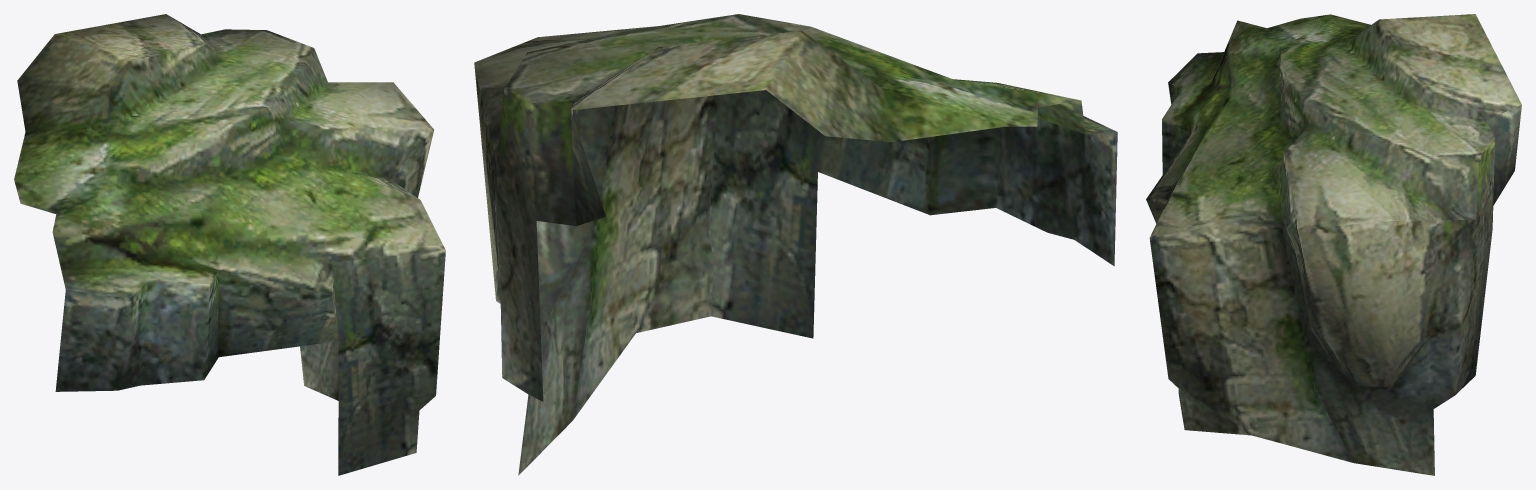
Rendered from S_Rock_Green047_1060_7.fbx.
3 views of the same model, side by side, from view 1: azimuth 30°, elevation 25°; view 2: azimuth 150°, elevation 25°; view 3: azimuth 270°, elevation 25° (orthographic). The views are drawn at different scales.
Visible parts, largest first — view 1: S_Rock_Green047_1060_7; view 2: S_Rock_Green047_1060_7; view 3: S_Rock_Green047_1060_7.
Part boxes in pixels (left/top/right/bottom): S_Rock_Green047_1060_7: left=14, top=14, right=445, bottom=475; S_Rock_Green047_1060_7: left=474, top=14, right=1117, bottom=475; S_Rock_Green047_1060_7: left=1146, top=14, right=1521, bottom=475.
Bounding box in the file's own units: 971 × 848 × 792.
Materials: 1 (1 with a texture image).
